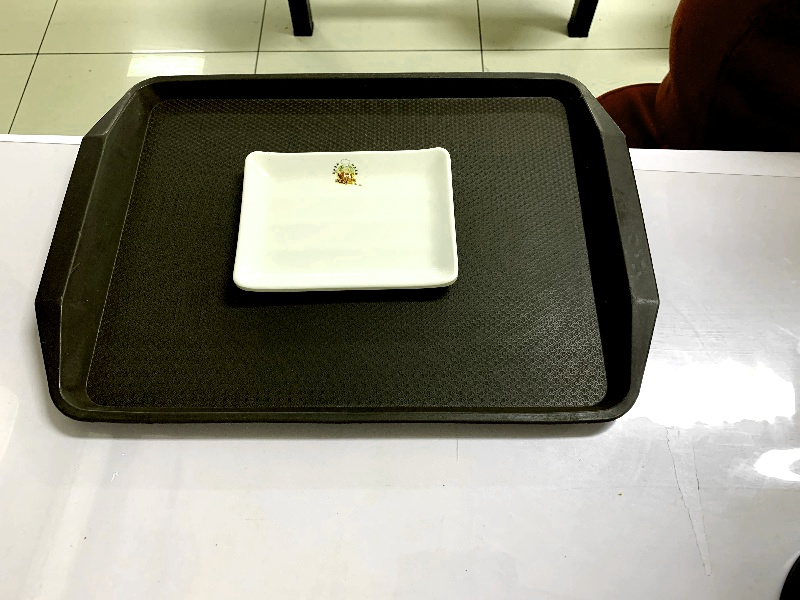dish4: (226, 141, 468, 300)
